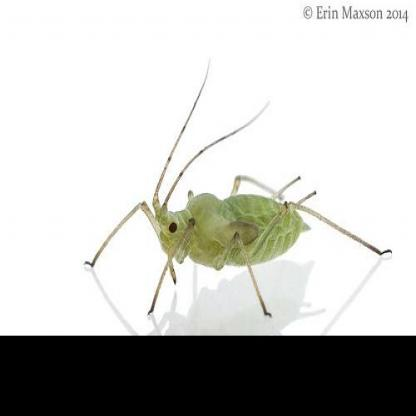aphid: (84, 66, 395, 322)
